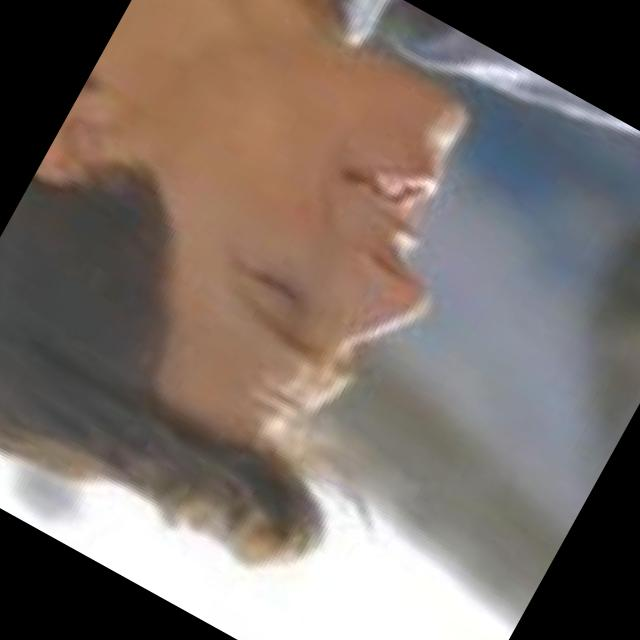bareface: (57, 0, 532, 528)
